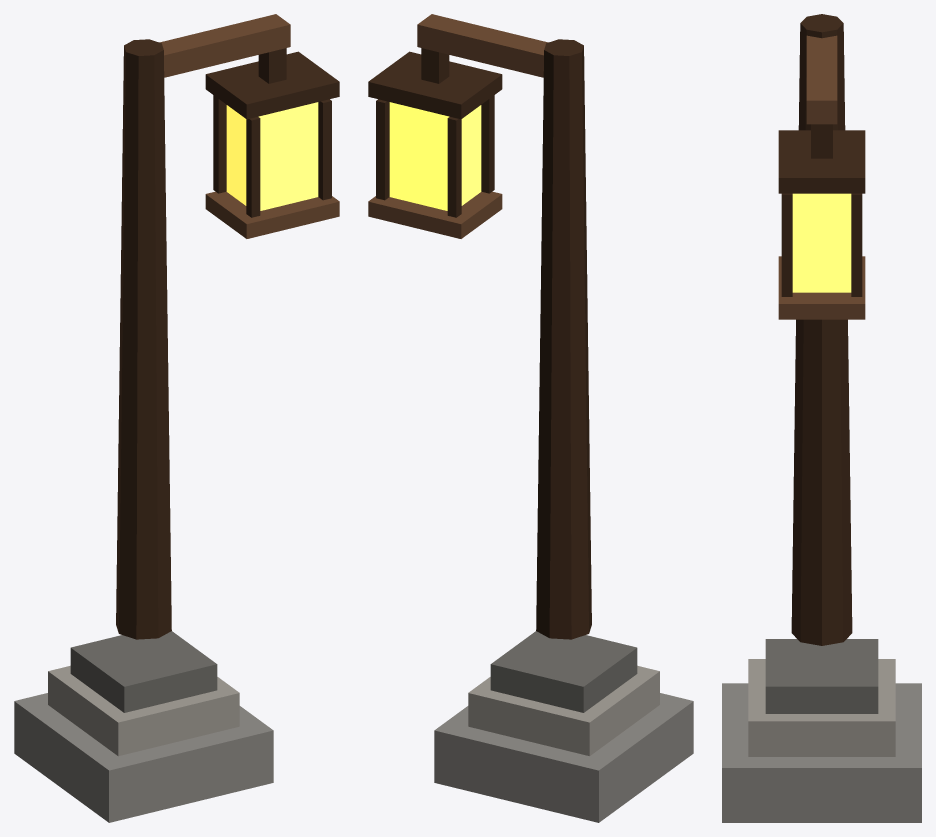
File: vn_deco_cottage_lantern.glb
The picture shows the model from 3 angles, left to right: view 1: azimuth 30°, elevation 25°; view 2: azimuth 150°, elevation 25°; view 3: azimuth 270°, elevation 25°; orthographic projection. The views are drawn at different scales.
Visible parts, largest first — view 1: lantern_wood, lantern_glass; view 2: lantern_wood, lantern_glass; view 3: lantern_wood, lantern_glass.
Part boxes in pixels (bbox=[...]): lantern_wood: bbox=[14, 14, 339, 822]; lantern_glass: bbox=[226, 102, 318, 210]; lantern_wood: bbox=[368, 14, 693, 822]; lantern_glass: bbox=[389, 102, 481, 210]; lantern_wood: bbox=[722, 14, 921, 822]; lantern_glass: bbox=[792, 193, 851, 292].
Size of the model in its own units: 0.72 by 1.92 by 0.46.
